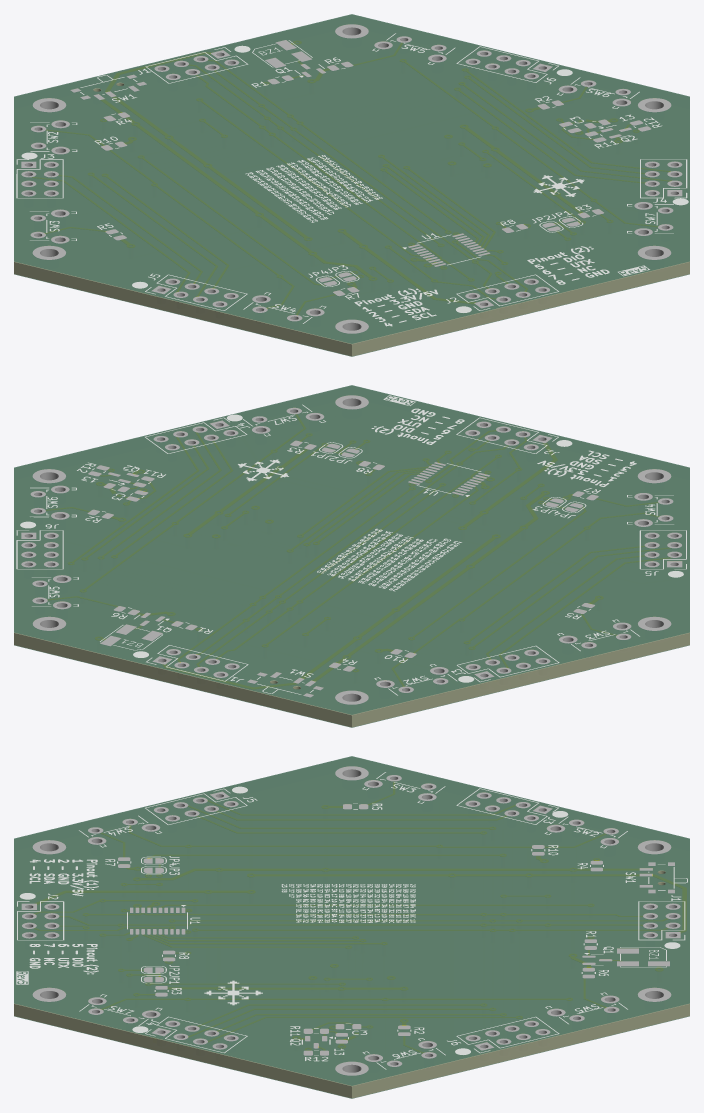
File: balccon-mini-cyberdeck-0o00-mc-0o00.glb
3 views of the same model, one above another, from view 1: azimuth 30°, elevation 25°; view 2: azimuth 150°, elevation 25°; view 3: azimuth 270°, elevation 25° (orthographic).
Visible parts, largest first — view 1: =>[0:1:1:7], =>[0:1:1:9], =>[0:1:1:2], =>[0:1:1:5]; view 2: =>[0:1:1:7], =>[0:1:1:9], =>[0:1:1:2], =>[0:1:1:5]; view 3: =>[0:1:1:7], =>[0:1:1:9], =>[0:1:1:2], =>[0:1:1:5].
Boxes of the visible parts, bbox=[...] form: =>[0:1:1:7]: bbox=[14, 14, 689, 356]; =>[0:1:1:9]: bbox=[14, 15, 689, 356]; =>[0:1:1:2]: bbox=[21, 24, 682, 333]; =>[0:1:1:5]: bbox=[16, 33, 688, 326]; =>[0:1:1:7]: bbox=[14, 385, 689, 727]; =>[0:1:1:9]: bbox=[14, 386, 689, 727]; =>[0:1:1:2]: bbox=[21, 395, 682, 704]; =>[0:1:1:5]: bbox=[16, 395, 686, 695]; =>[0:1:1:7]: bbox=[14, 756, 689, 1098]; =>[0:1:1:9]: bbox=[14, 757, 689, 1098]; =>[0:1:1:2]: bbox=[21, 766, 686, 1075]; =>[0:1:1:5]: bbox=[16, 772, 687, 1069].
Size of the model in its own units: 0.088 by 0.00166 by 0.0762.
4 materials, 4 textured.
